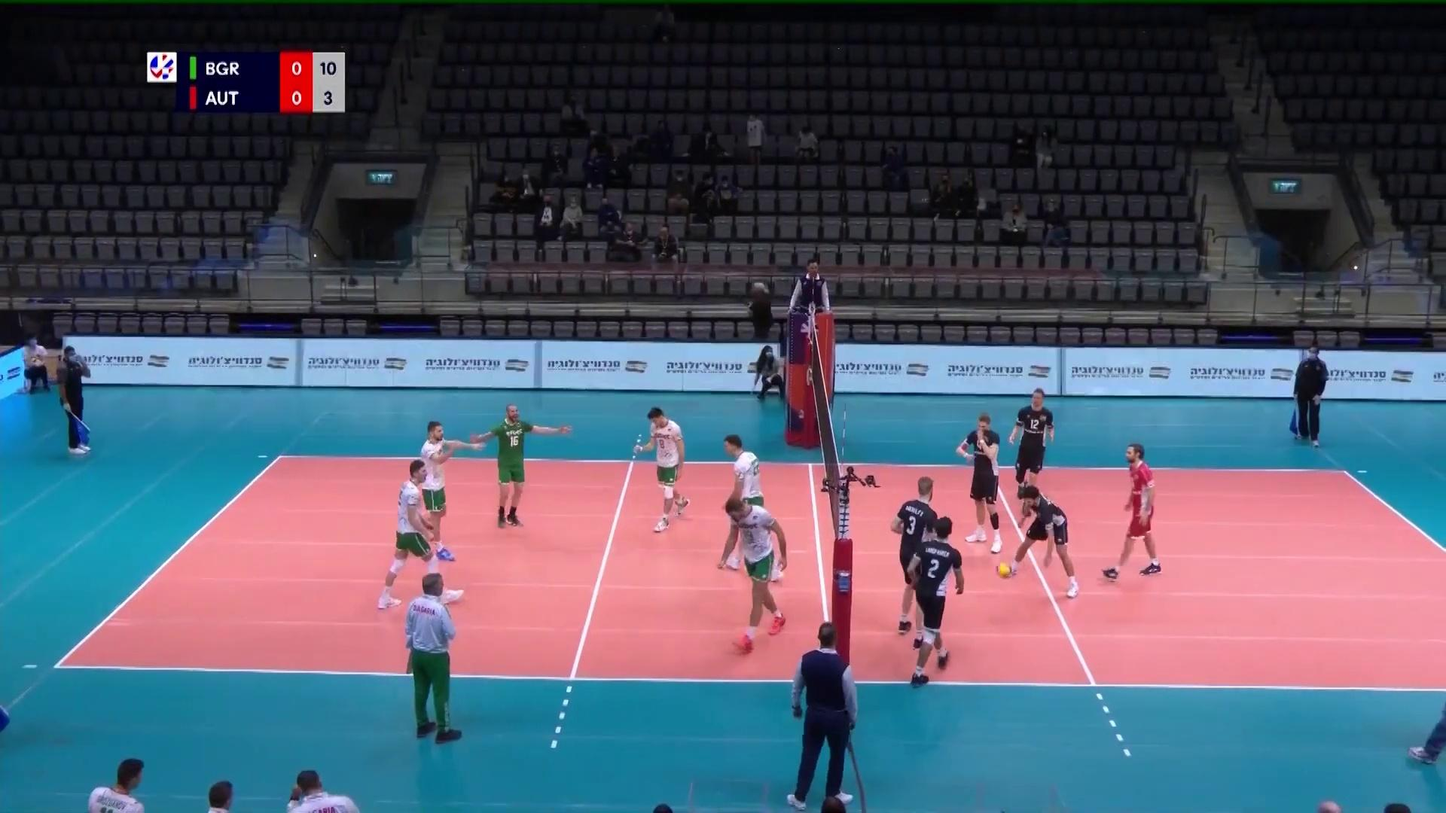ball: (996, 561, 1012, 579)
